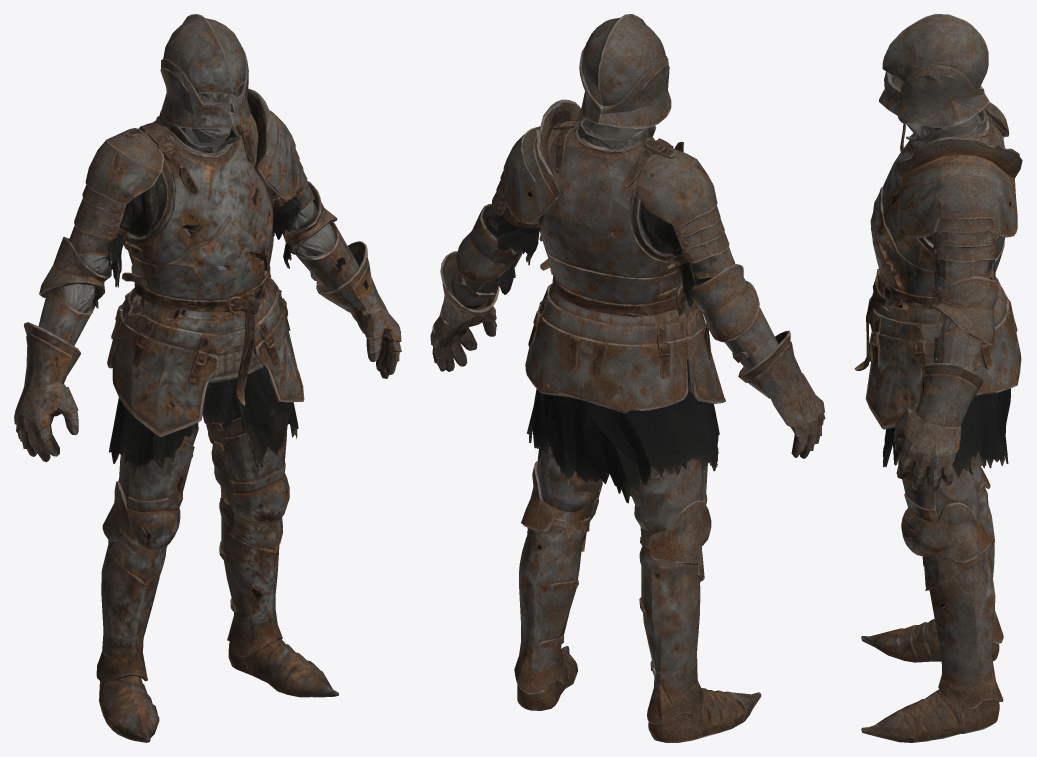
Rendered from rusted_knight_meshy.glb.
The picture shows the model from 3 angles, left to right: view 1: azimuth 30°, elevation 25°; view 2: azimuth 150°, elevation 25°; view 3: azimuth 270°, elevation 25°; orthographic projection. The views are drawn at different scales.
Visible parts, largest first — view 1: Mesh_0; view 2: Mesh_0; view 3: Mesh_0.
Part boxes in pixels (left/top/right/bottom): Mesh_0: left=14, top=14, right=401, bottom=742; Mesh_0: left=430, top=14, right=825, bottom=742; Mesh_0: left=854, top=14, right=1022, bottom=742.
Size of the model in its own units: 1.1 by 1.9 by 0.4269.
1 material, 1 textured.
